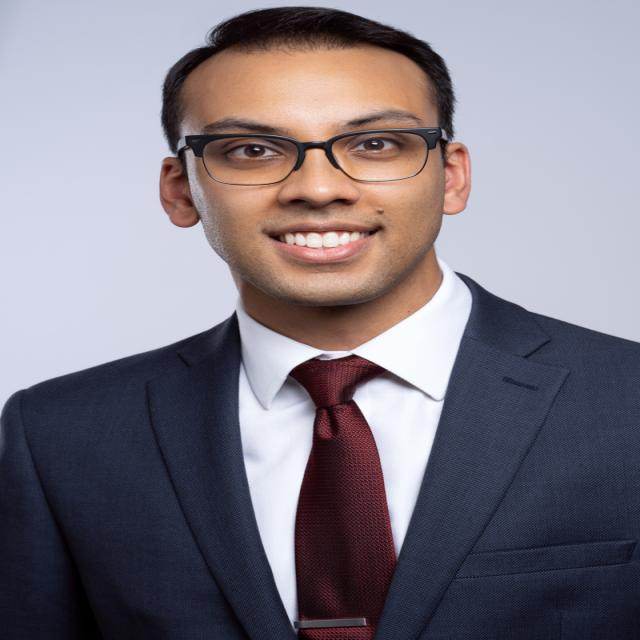nothing: (141, 0, 487, 172)
